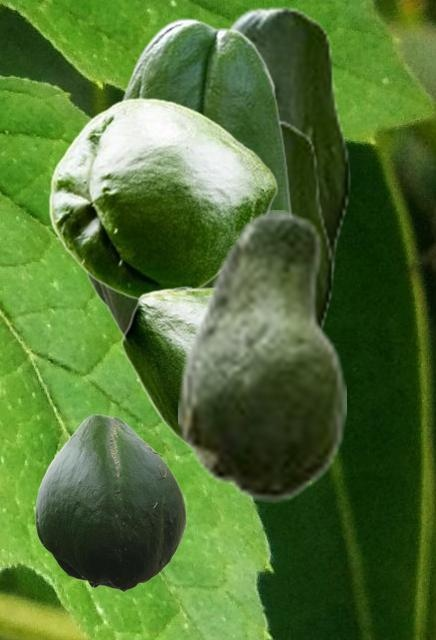sayote: (81, 18, 293, 335), (178, 210, 345, 502), (48, 97, 277, 301), (224, 6, 349, 285), (35, 414, 185, 591), (121, 286, 210, 445), (281, 119, 332, 331)
